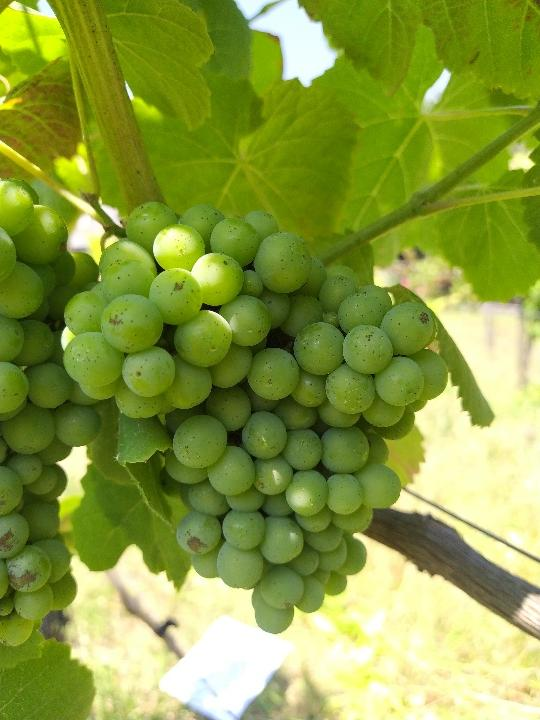grape: (61, 199, 450, 637)
